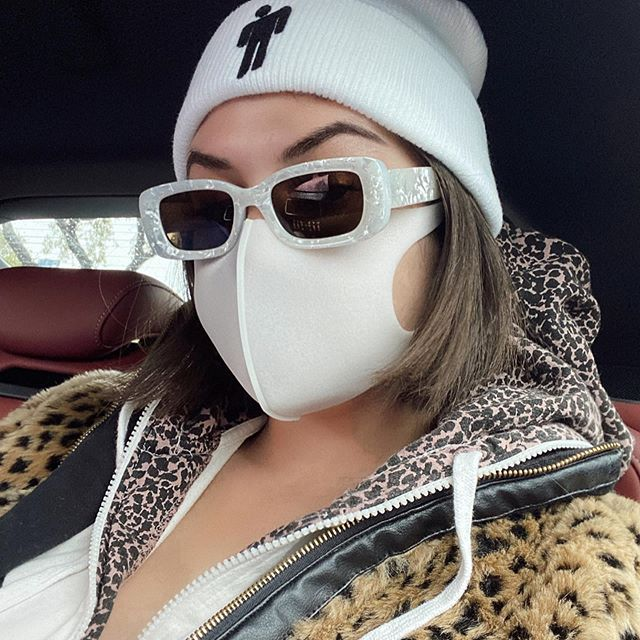homemade: (152, 210, 460, 423)
